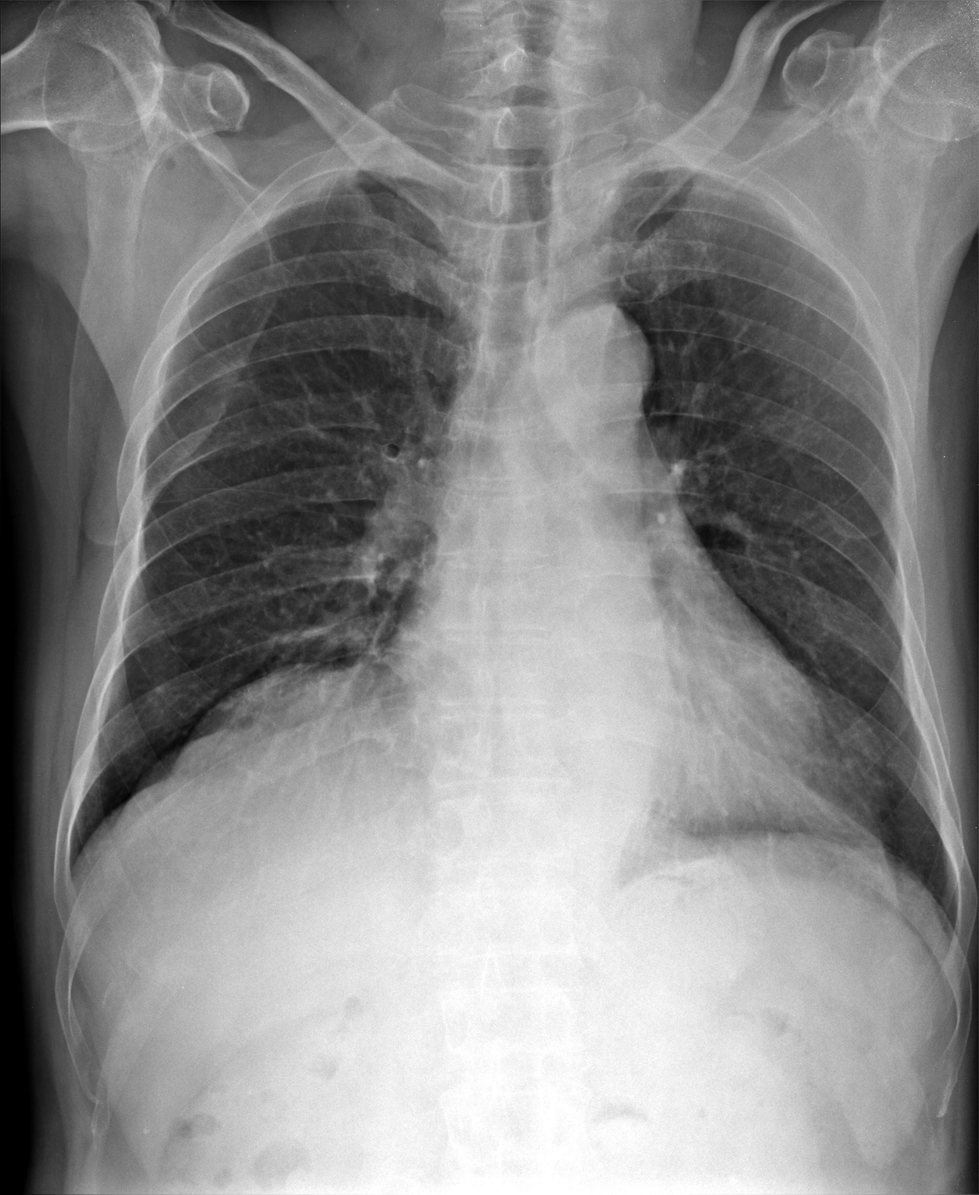Aortic enlargement: (529, 305, 655, 424)
Cardiomegaly: (385, 592, 891, 865)
Pleural thickening: (268, 167, 402, 217)
